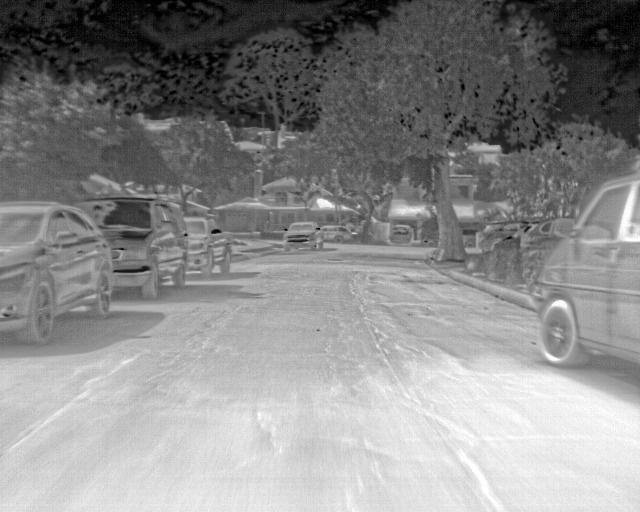car: (531, 169, 639, 369), (0, 198, 113, 346), (75, 196, 186, 300), (184, 214, 233, 276), (475, 225, 521, 255), (283, 220, 323, 252), (321, 225, 353, 245), (524, 220, 554, 240), (389, 223, 412, 243), (513, 223, 540, 239)
